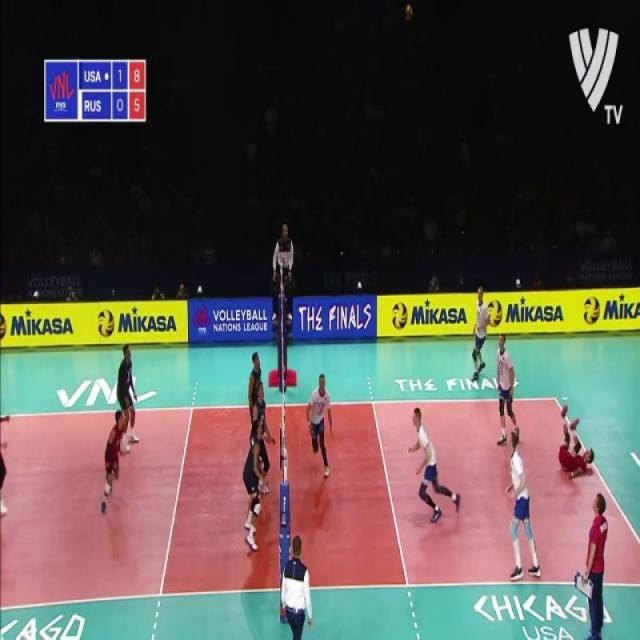volleyball: (96, 309, 116, 337), (583, 294, 600, 326), (485, 300, 504, 328), (392, 301, 408, 331), (404, 4, 415, 20)
